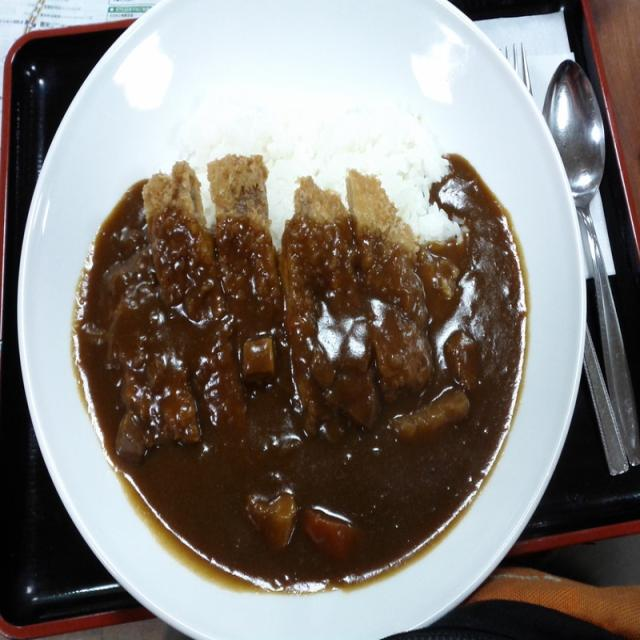猪肉菜式: (12, 0, 598, 636)
